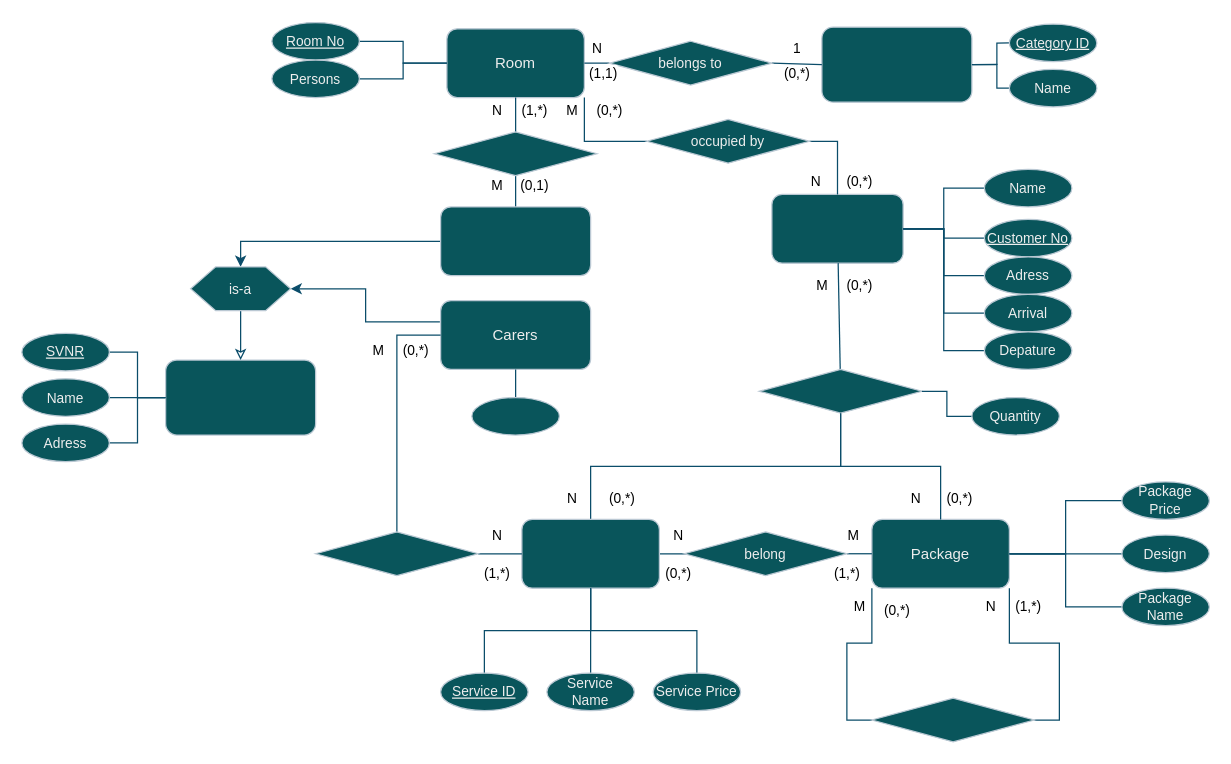
Image size: 1231x764. Some labels were removed from this diagram. Here are the shapes that lost their labels. From the top down, the centre of each, then its label:
At (x=896, y=64): "Categorie".
At (x=515, y=153): "attendet by".
At (x=515, y=241): "Room Attendant".
At (x=837, y=228): "Customer".
At (x=240, y=397): "Employees".
At (x=840, y=390): "booking".
At (x=515, y=415): "Suject Area".
At (x=396, y=553): "responsible for".
At (x=590, y=553): "Services".
At (x=952, y=719): "is part of".
